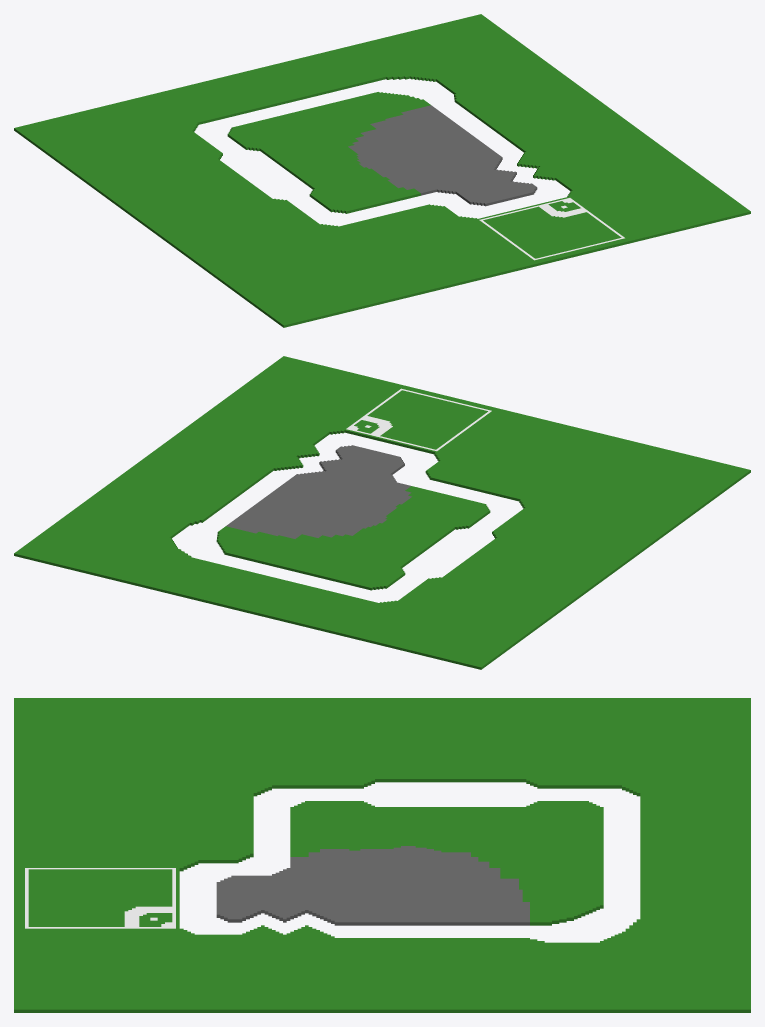
Rendered from Track02.obj.
3 renders of one model, top to bottom at view 1: azimuth 30°, elevation 25°; view 2: azimuth 150°, elevation 25°; view 3: azimuth 270°, elevation 25°, orthographic. The views are drawn at different scales.
Size of the model in its own units: 20 by 0.1 by 20.
1 material, 1 textured.
